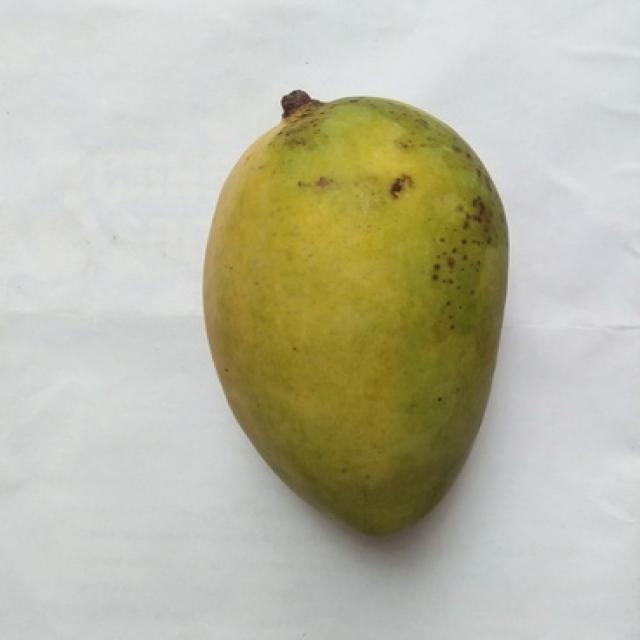Mango: (203, 93, 506, 535)
